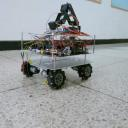cart: (21, 30, 97, 90)
